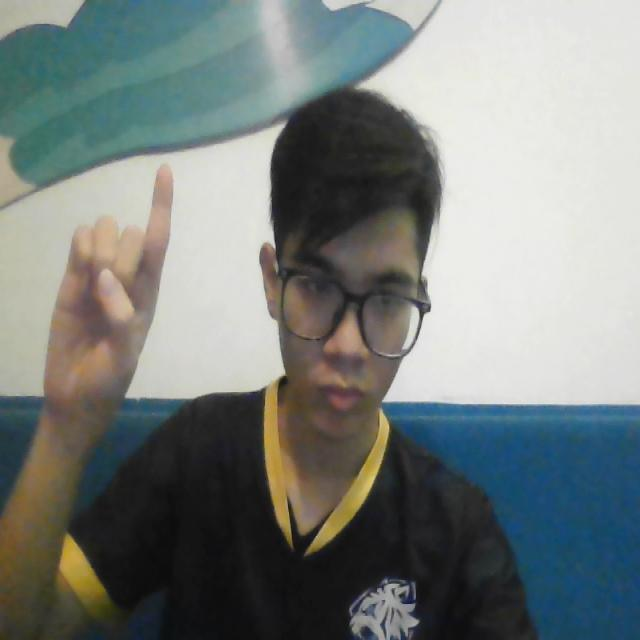D: (45, 156, 175, 417)
